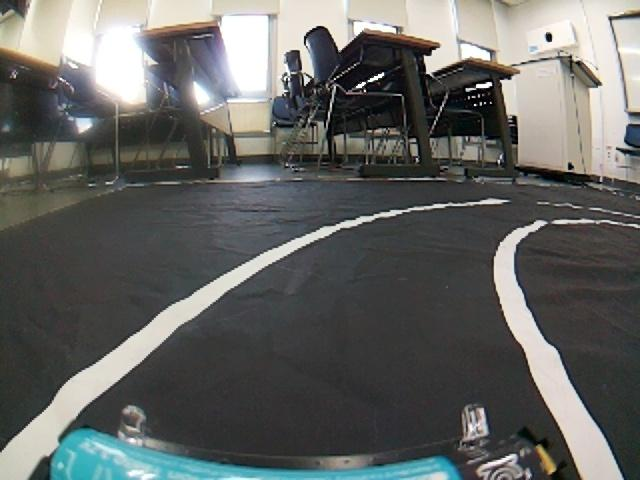right: (4, 191, 633, 480)
